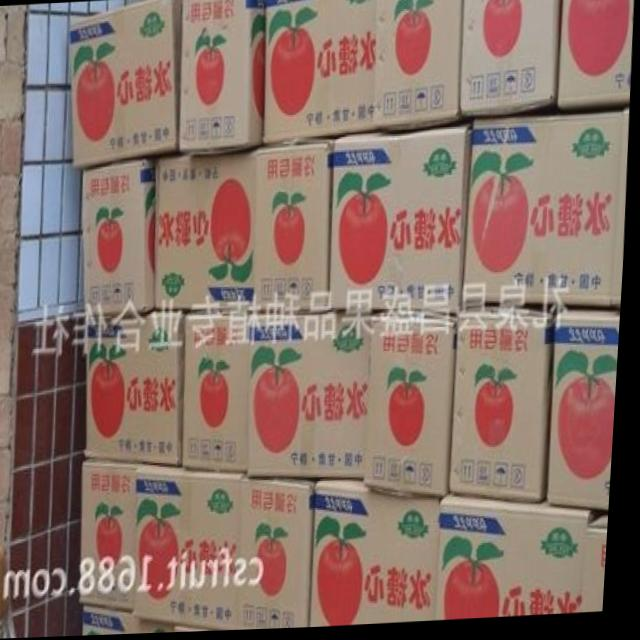box: (465, 117, 630, 313), (330, 124, 470, 319), (454, 311, 558, 508), (251, 314, 375, 479), (68, 0, 183, 172), (315, 479, 444, 628), (441, 500, 600, 620), (141, 465, 250, 629), (264, 0, 378, 146), (157, 153, 258, 311), (372, 319, 460, 499), (90, 311, 190, 465), (551, 314, 624, 517), (256, 143, 334, 314), (180, 0, 267, 153), (83, 162, 158, 319), (246, 481, 325, 629), (463, 0, 560, 118), (376, 0, 462, 132), (189, 314, 253, 474), (87, 457, 152, 610), (556, 0, 633, 116), (90, 602, 185, 637), (588, 515, 615, 614)
